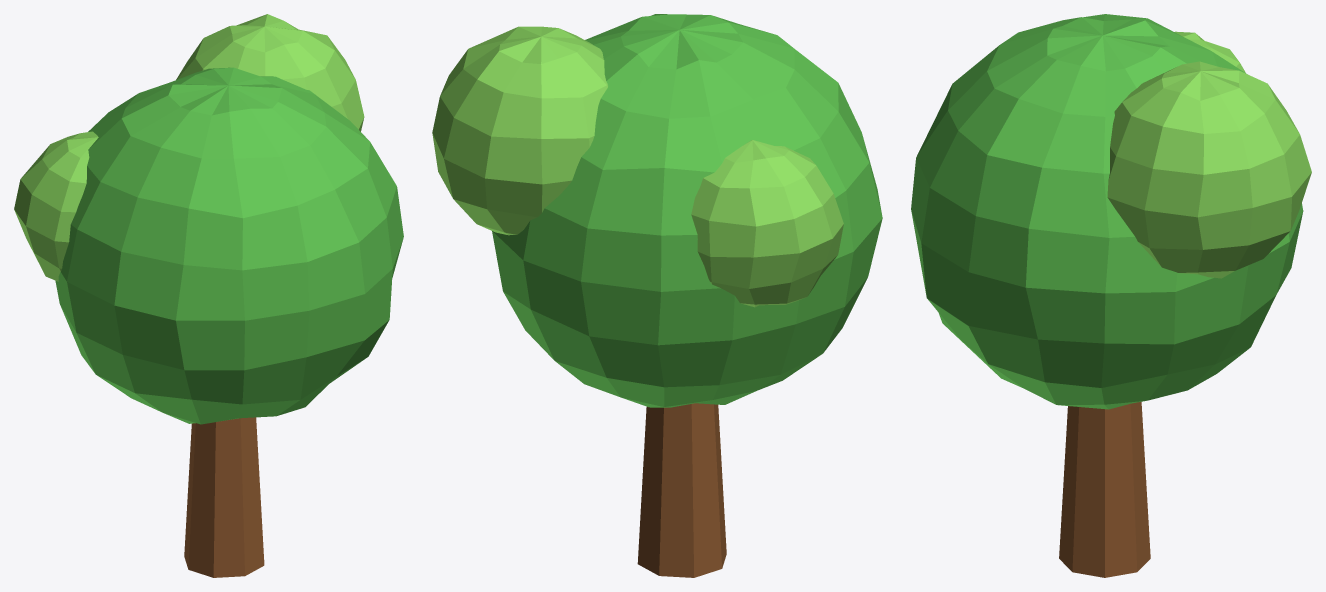
File: RoundTree.fbx
The picture shows the model from 3 angles, left to right: view 1: azimuth 30°, elevation 25°; view 2: azimuth 150°, elevation 25°; view 3: azimuth 270°, elevation 25°; orthographic projection. The views are drawn at different scales.
Parts seen in each view (by area): view 1: Leaves, LeavesLight, Wood; view 2: Leaves, LeavesLight, Wood; view 3: Leaves, LeavesLight, Wood.
Boxes of the visible parts, bbox=[...] form: Leaves: bbox=[55, 67, 403, 424]; LeavesLight: bbox=[14, 14, 364, 281]; Wood: bbox=[184, 417, 264, 577]; Leaves: bbox=[492, 14, 882, 407]; LeavesLight: bbox=[432, 26, 843, 307]; Wood: bbox=[637, 403, 726, 577]; Leaves: bbox=[911, 14, 1303, 409]; LeavesLight: bbox=[1107, 31, 1311, 278]; Wood: bbox=[1059, 402, 1150, 577].
Bounding box in the file's own units: 3.37 × 4.61 × 3.15.
